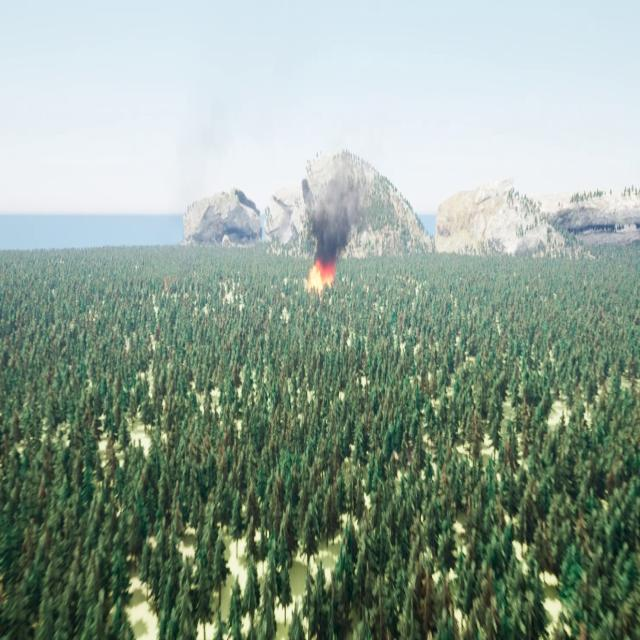fire: (305, 257, 337, 288)
smoke: (312, 161, 361, 257)
